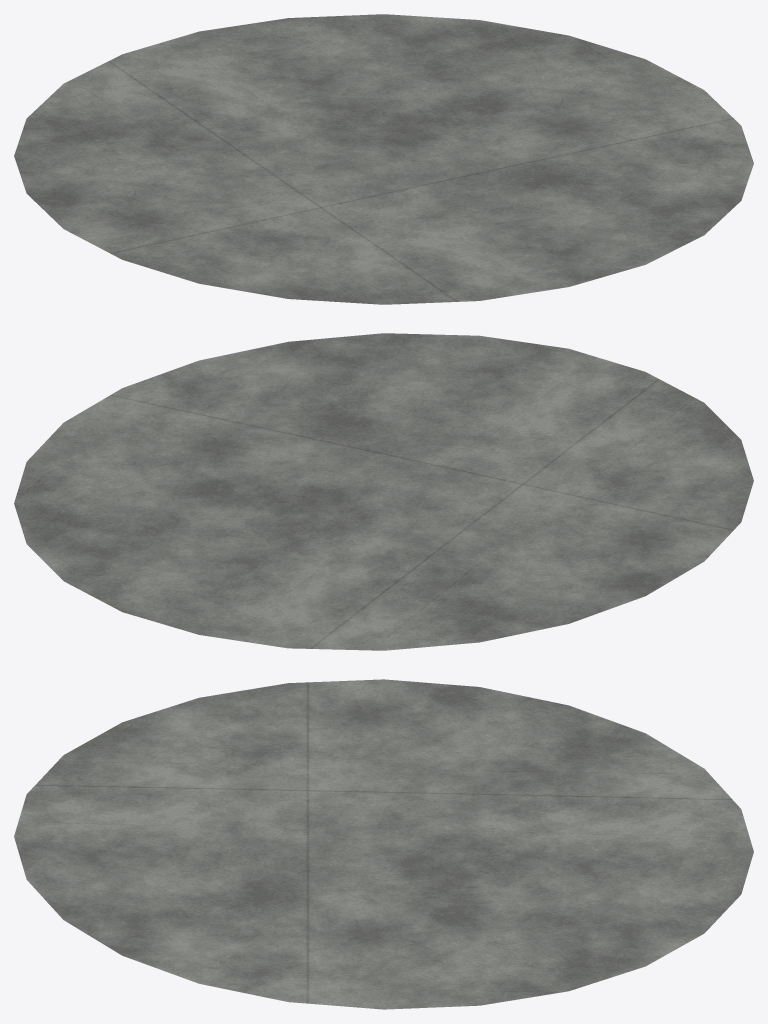
Rendered from INT-J-015.obj.
3 renders of one model, top to bottom at view 1: azimuth 30°, elevation 25°; view 2: azimuth 150°, elevation 25°; view 3: azimuth 270°, elevation 25°, orthographic.
Parts seen in each view (by area): view 1: INT-J-015; view 2: INT-J-015; view 3: INT-J-015.
Boxes of the visible parts, left/top/right/bottom form: INT-J-015: left=14, top=14, right=753, bottom=304; INT-J-015: left=14, top=333, right=753, bottom=650; INT-J-015: left=14, top=679, right=753, bottom=1009.
Size of the model in its own units: 6 by 0.2064 by 6.
Materials: 1 (1 with a texture image).
